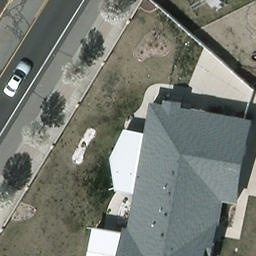car: (2, 59, 34, 97)
